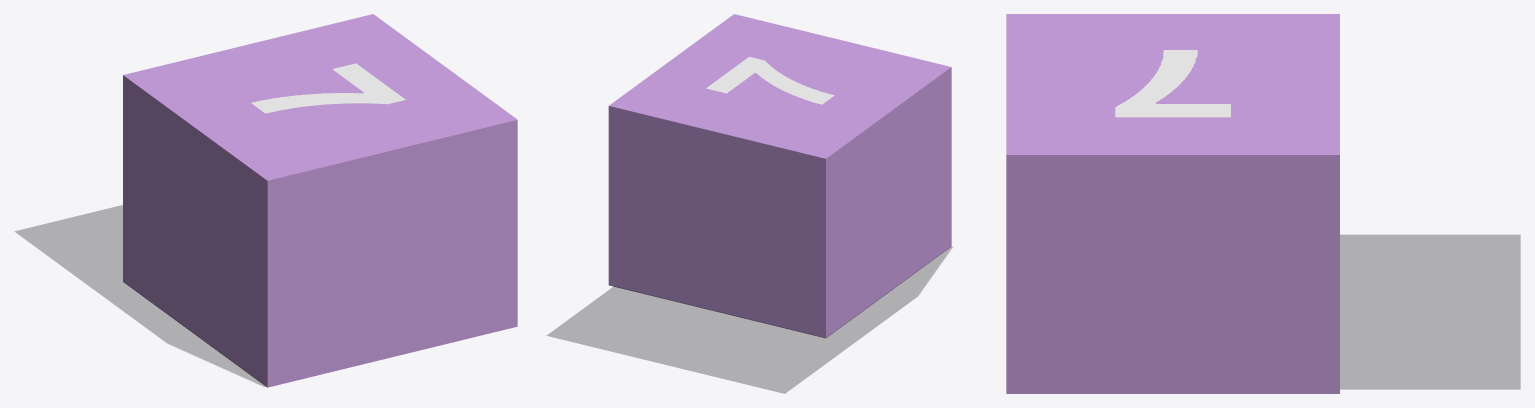
File: numbered_block_6.glb
3 renders of one model, left to right at view 1: azimuth 30°, elevation 25°; view 2: azimuth 150°, elevation 25°; view 3: azimuth 270°, elevation 25°, orthographic. The views are drawn at different scales.
Visible parts, largest first — view 1: hitObj, block, Object3D; view 2: hitObj, block, Object3D; view 3: hitObj, block, Object3D.
Boxes of the visible parts, box(x1,y1,x2,y2) form: hitObj: box(123, 14, 517, 387); block: box(15, 205, 266, 386); Object3D: box(251, 63, 405, 113); hitObj: box(608, 14, 951, 338); block: box(547, 246, 952, 393); Object3D: box(706, 57, 834, 104); hitObj: box(1006, 14, 1339, 393); block: box(1340, 235, 1520, 389); Object3D: box(1115, 50, 1230, 117).
Size of the model in its own units: 7.88 by 5.57 by 10.81.
4 materials, 3 textured.
